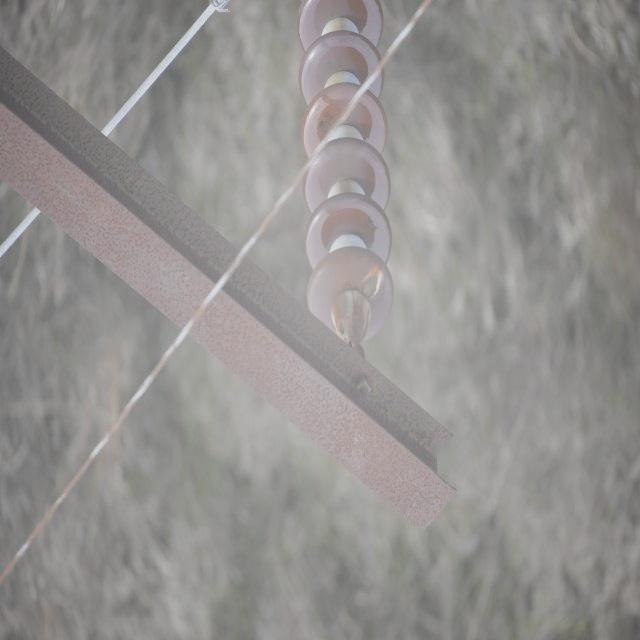insulator: (298, 0, 395, 339)
